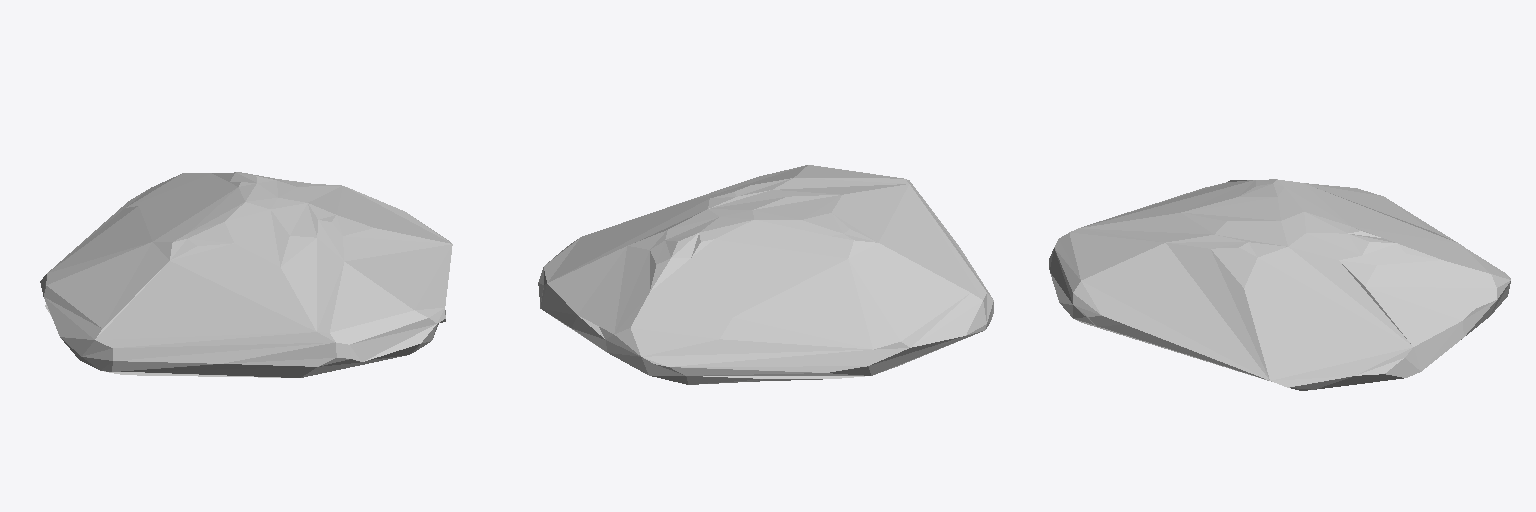
Rendered from floatyboi05-inv.obj.
3 renders of one model, left to right at view 1: azimuth 30°, elevation 25°; view 2: azimuth 150°, elevation 25°; view 3: azimuth 270°, elevation 25°, orthographic.
Visible parts, largest first — view 1: Cube.001; view 2: Cube.001; view 3: Cube.001.
Boxes of the visible parts, x1=… form: Cube.001: x1=40, y1=172, x2=452, y2=377; Cube.001: x1=538, y1=165, x2=993, y2=384; Cube.001: x1=1049, y1=179, x2=1510, y2=390.
Bounding box in the file's own units: 8.06 × 1.76 × 8.2.